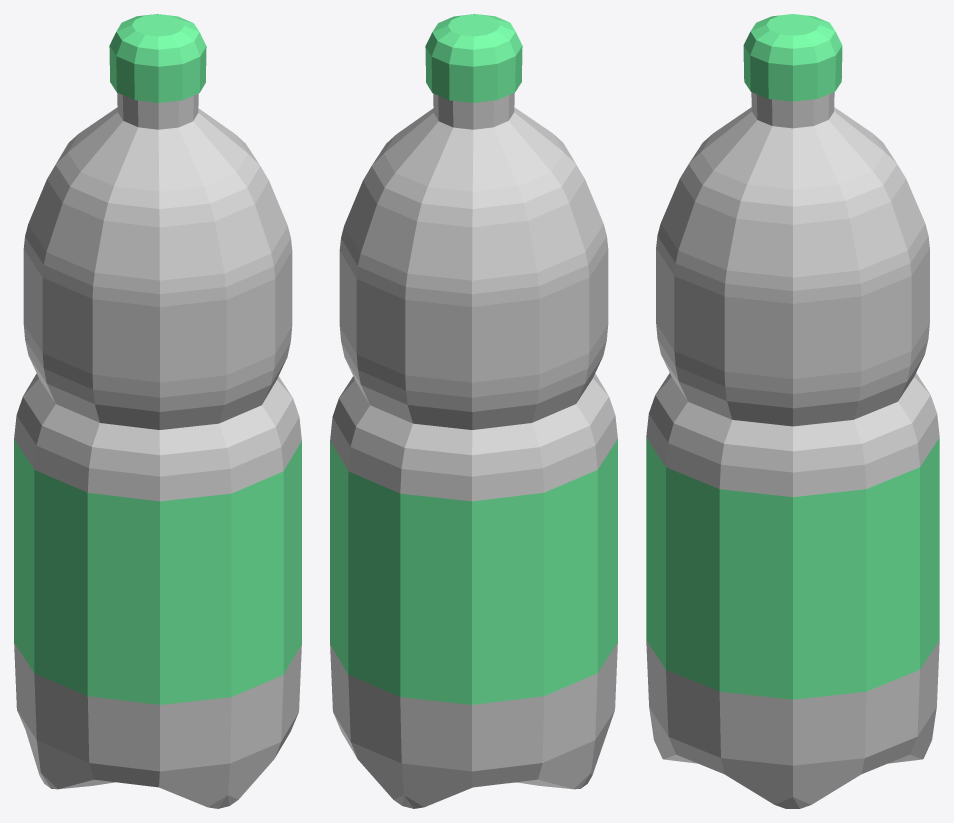
Rendered from sprite.fbx.
The picture shows the model from 3 angles, left to right: view 1: azimuth 30°, elevation 25°; view 2: azimuth 150°, elevation 25°; view 3: azimuth 270°, elevation 25°; orthographic projection.
Visible parts, largest first — view 1: Cylinder.002; view 2: Cylinder.002; view 3: Cylinder.002.
Part boxes in pixels (bbox=[...]): Cylinder.002: bbox=[14, 14, 301, 808]; Cylinder.002: bbox=[330, 14, 617, 808]; Cylinder.002: bbox=[646, 14, 939, 808].
Bounding box in the file's own units: 52.25 × 149 × 53.97.
